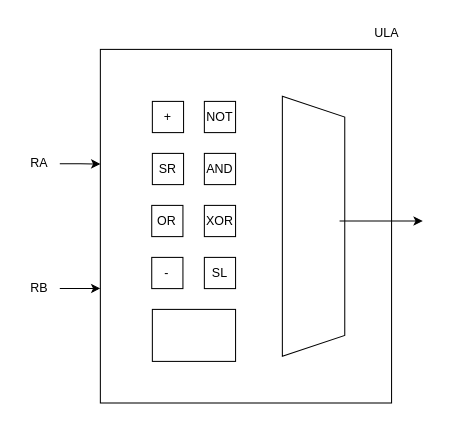
Image size: 449x421. Some labels were removed from this diagram. The centre of each missing label's shape, as x and y in pixels:
MUX: the point at 313,225
ZERO: the point at 193,334
